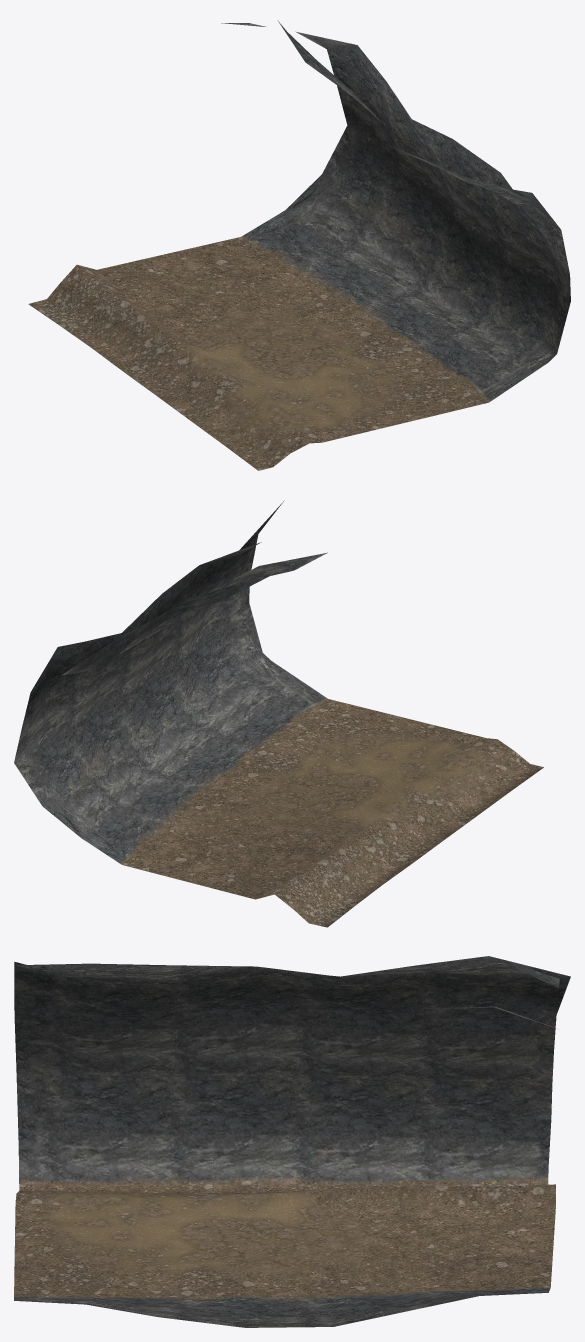
The model's file is TunnelA8__1_.glb.
3 renders of one model, top to bottom at view 1: azimuth 30°, elevation 25°; view 2: azimuth 150°, elevation 25°; view 3: azimuth 270°, elevation 25°, orthographic. The views are drawn at different scales.
Visible parts, largest first — view 1: TunnelA8__1_; view 2: TunnelA8__1_; view 3: TunnelA8__1_.
Part boxes in pixels (x1,y1,x2,y2): TunnelA8__1_: (28, 20, 570, 470); TunnelA8__1_: (14, 500, 543, 927); TunnelA8__1_: (14, 956, 570, 1327).
Bounding box in the file's own units: 4.3 × 2.93 × 5.12.
Materials: 1 (1 with a texture image).
